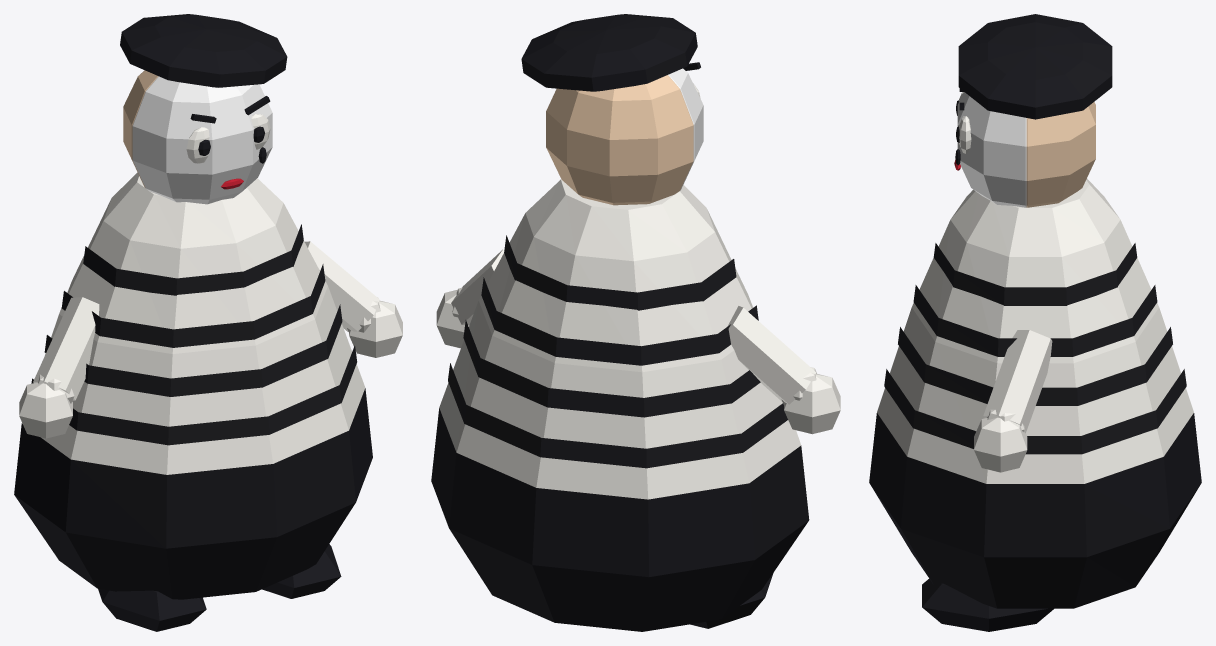
Rendered from npc_mimo.glb.
3 renders of one model, left to right at view 1: azimuth 30°, elevation 25°; view 2: azimuth 150°, elevation 25°; view 3: azimuth 270°, elevation 25°, orthographic. The views are drawn at different scales.
Parts seen in each view (by area): view 1: body_white, body_black, body_mime_stripe_black, head_mime_white, arms_white, cap_black, legs_black, head_skin_crema, face_white, face_black; view 2: body_white, body_black, body_mime_stripe_black, head_skin_crema, cap_black, arms_white, head_mime_white, legs_black; view 3: body_white, body_black, body_mime_stripe_black, cap_black, arms_white, head_skin_crema, head_mime_white, legs_black.
Boxes of the visible parts, x1,y1,x2,y2 form: body_white: [21, 172, 365, 474]; body_black: [14, 388, 372, 599]; body_mime_stripe_black: [31, 224, 357, 445]; head_mime_white: [132, 76, 272, 204]; arms_white: [19, 241, 402, 438]; cap_black: [120, 14, 287, 87]; legs_black: [98, 544, 341, 631]; head_skin_crema: [123, 70, 158, 187]; face_white: [186, 114, 270, 163]; face_black: [190, 96, 270, 163]; body_white: [439, 179, 800, 499]; body_black: [431, 408, 809, 631]; body_mime_stripe_black: [448, 235, 787, 468]; head_skin_crema: [546, 75, 693, 205]; cap_black: [521, 14, 697, 91]; arms_white: [436, 249, 840, 434]; head_mime_white: [668, 68, 703, 190]; legs_black: [690, 573, 773, 628]; body_white: [877, 178, 1193, 483]; body_black: [869, 413, 1201, 608]; body_mime_stripe_black: [884, 243, 1186, 454]; cap_black: [958, 14, 1112, 119]; arms_white: [974, 330, 1052, 472]; head_skin_crema: [1026, 102, 1095, 207]; head_mime_white: [957, 92, 1026, 207]; legs_black: [922, 578, 1053, 631].
Bounding box in the file's own units: 1.14 × 1.58 × 0.86.
